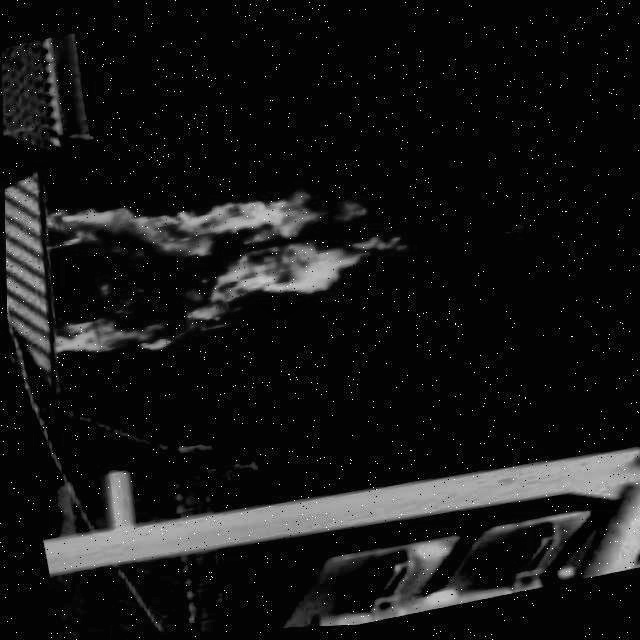Fire: (29, 141, 436, 375)
